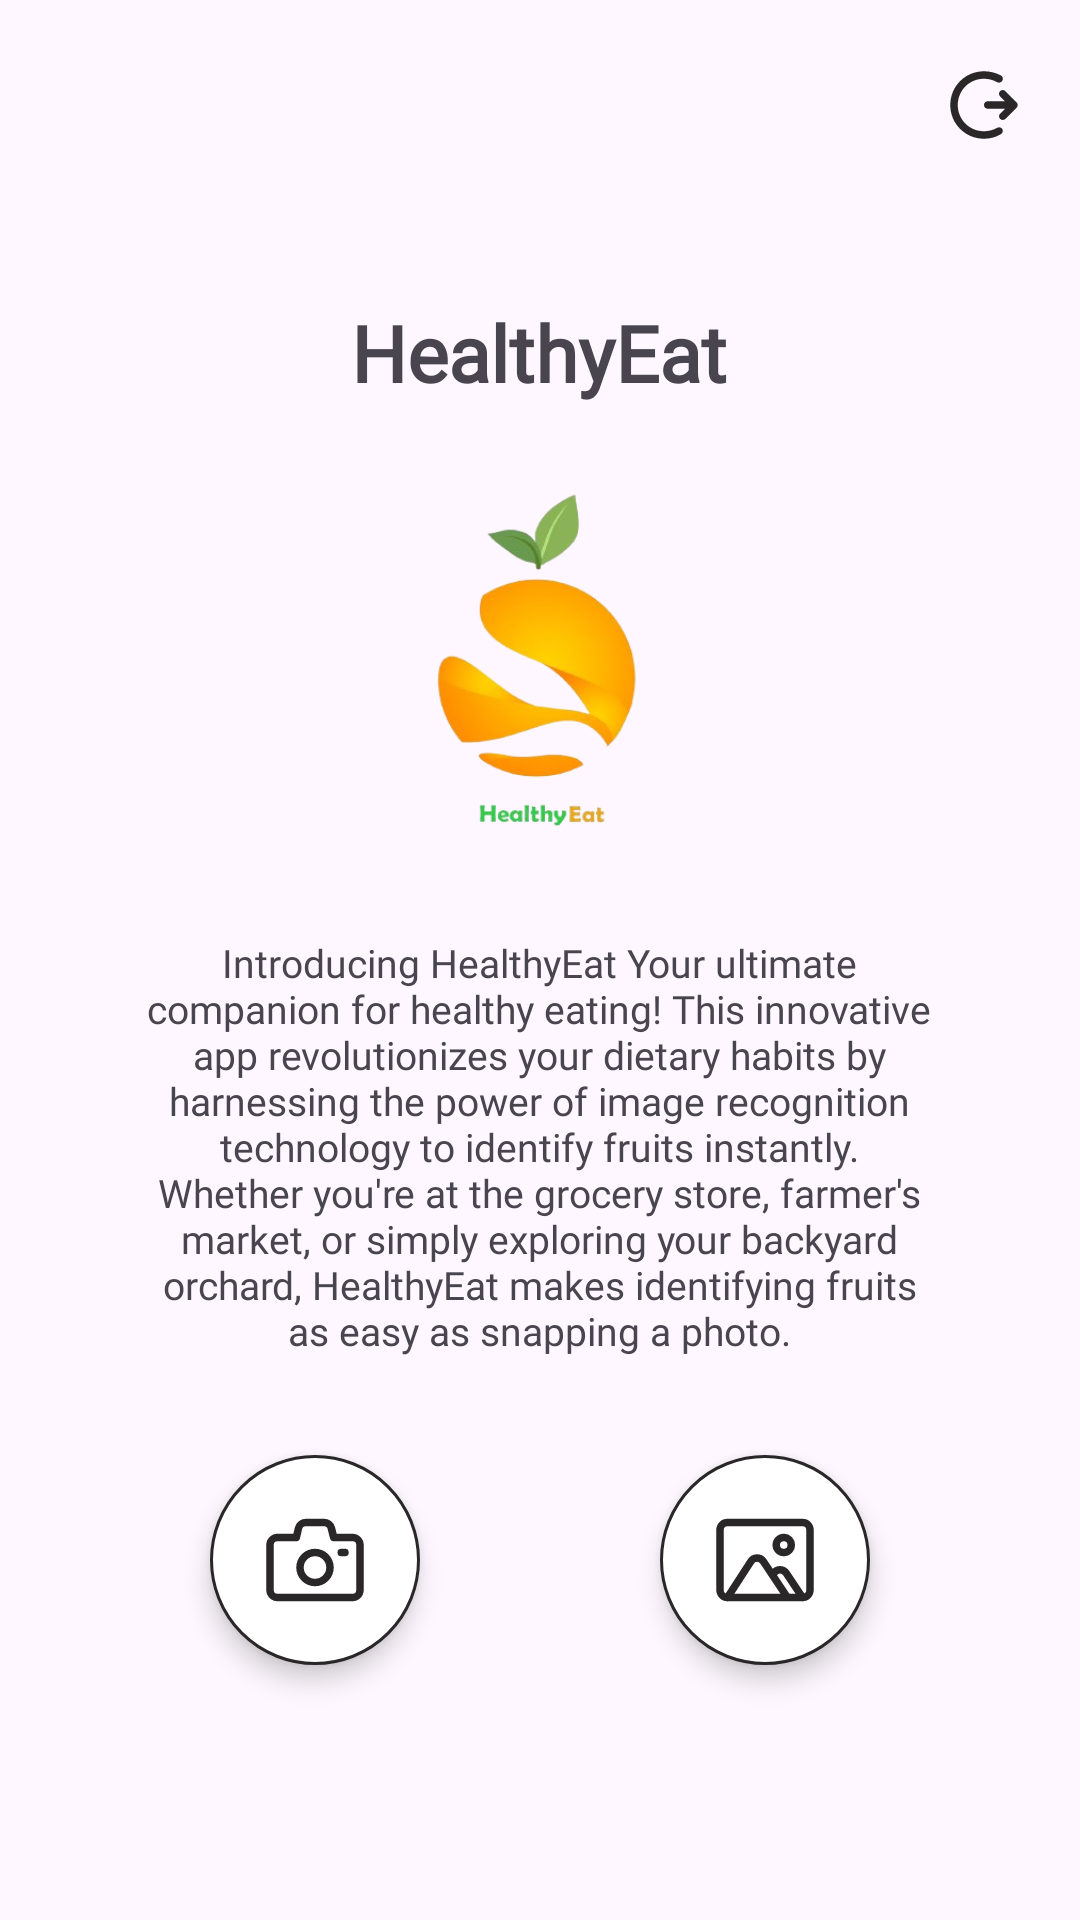

Icons on this 1080x1920 Android screen, each with the point to tap as (x=x, y=y):
camera: (x=315, y=1560)
gallery: (x=765, y=1560)
sign out: (x=984, y=105)
